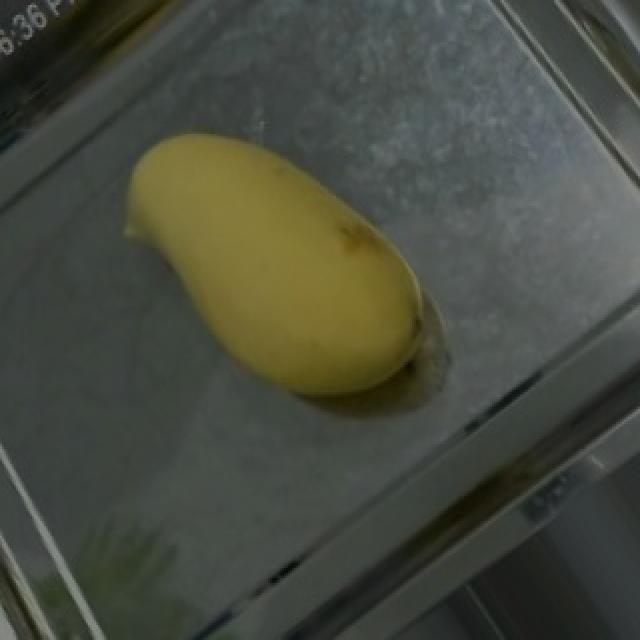fruit: (82, 74, 486, 464)
